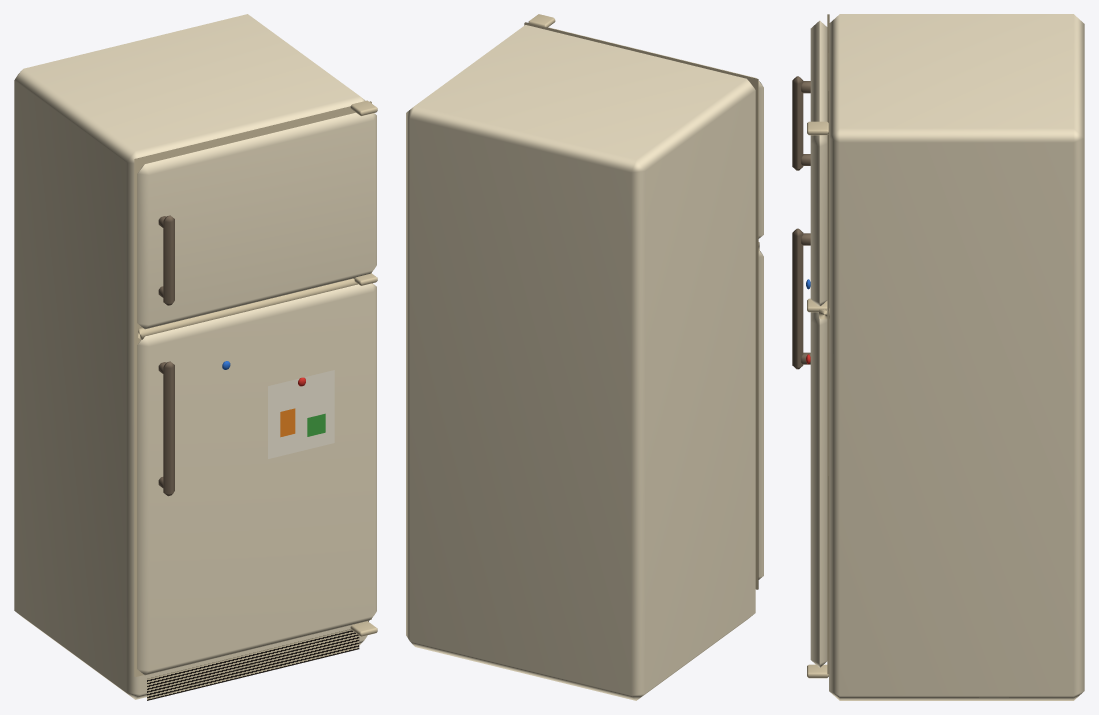
Rendered from fridge_90s.glb.
3 views of the same model, side by side, from view 1: azimuth 30°, elevation 25°; view 2: azimuth 150°, elevation 25°; view 3: azimuth 270°, elevation 25° (orthographic). The views are drawn at different scales.
Parts seen in each view (by area): view 1: model; view 2: model; view 3: model.
Part boxes in pixels (box(x1,y1,x2,y2)): model: box(14, 14, 377, 700); model: box(406, 14, 763, 700); model: box(792, 14, 1084, 700).
Size of the model in its own units: 0.8 by 1.73 by 0.8.
Materials: 9 (1 with a texture image).
